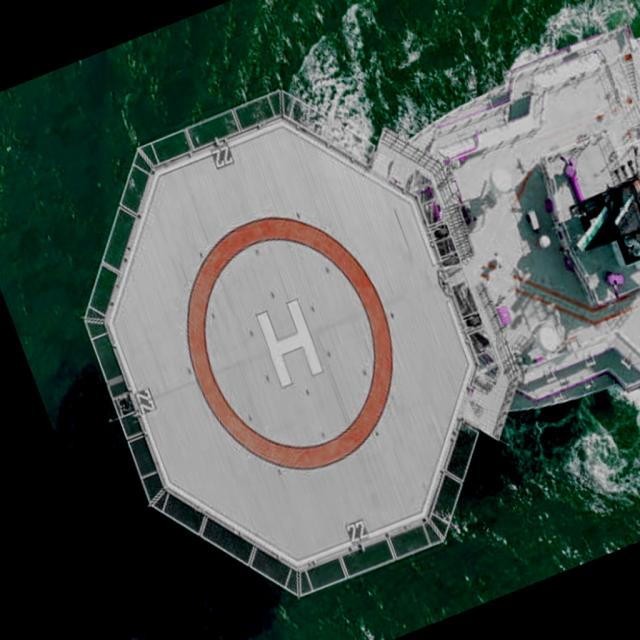helipad: (179, 210, 396, 472)
